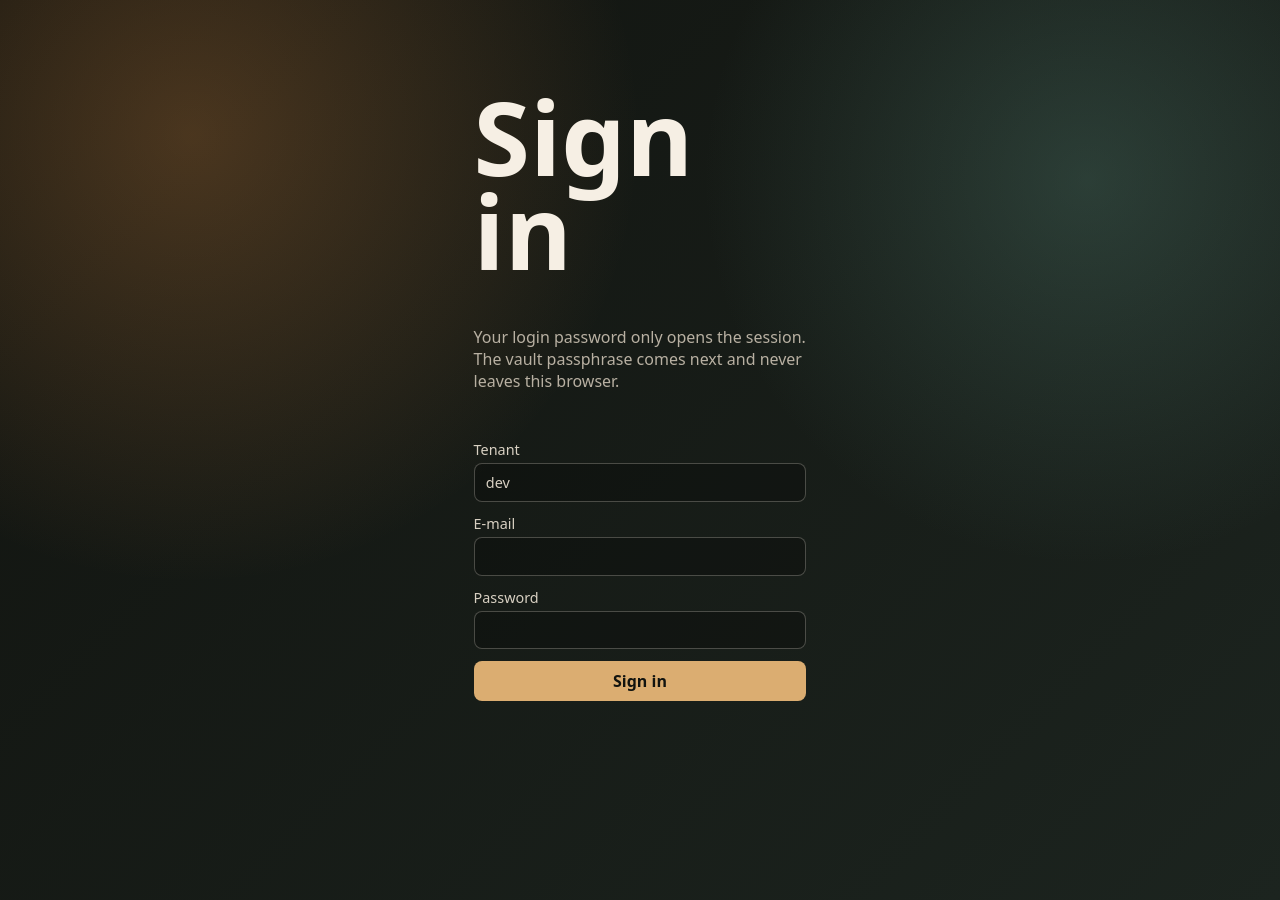
Test: LoginPage › shows the throttle message on 429
The width and height of the screenshot is (1280, 900).
Type "a@b.c" into the field labelled "E-mail".
click(640, 556); type("a@b.c")  # box [474,537,806,576]
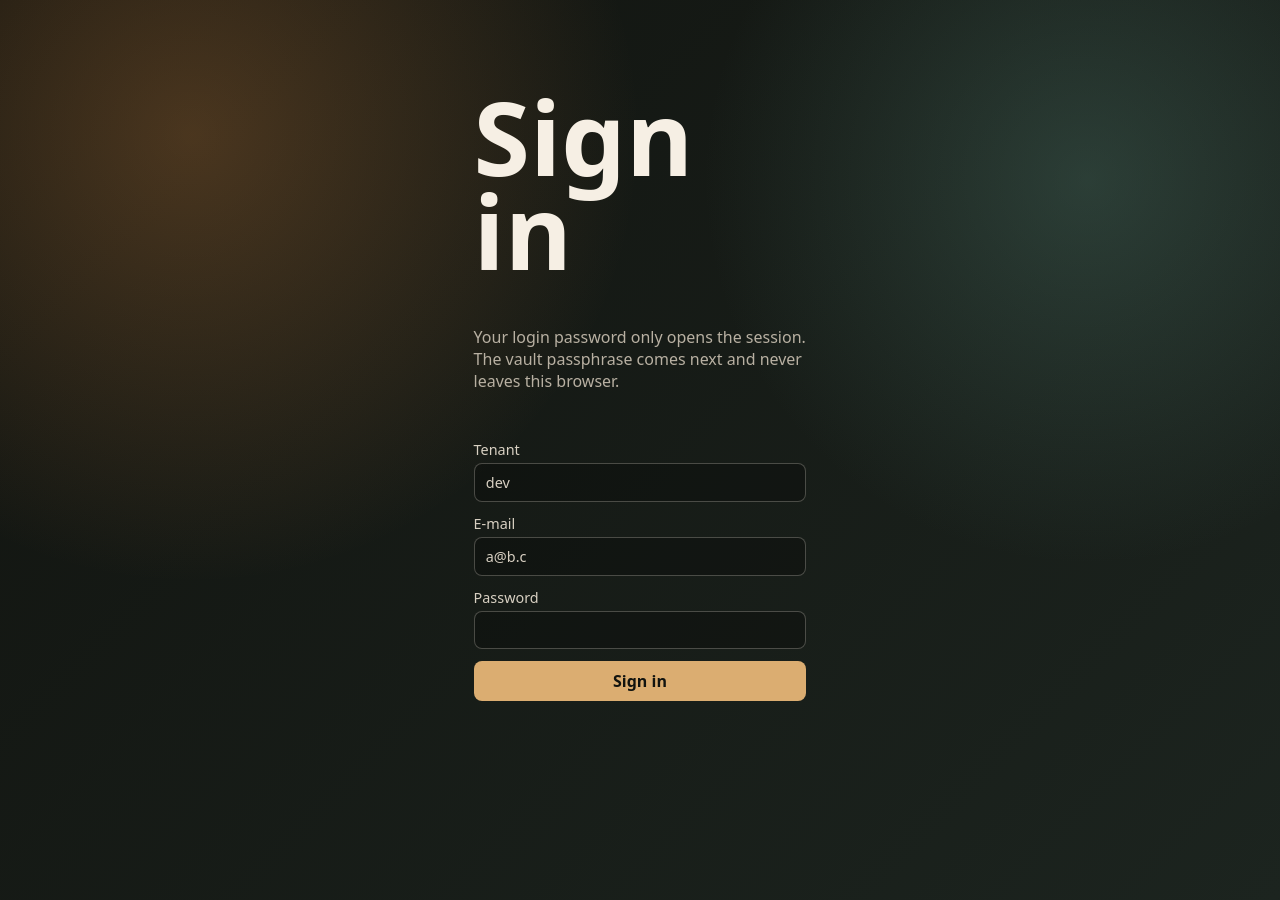
Type "x" into the password field labelled "Password".
click(640, 630); type("x")  # box [474,611,806,649]
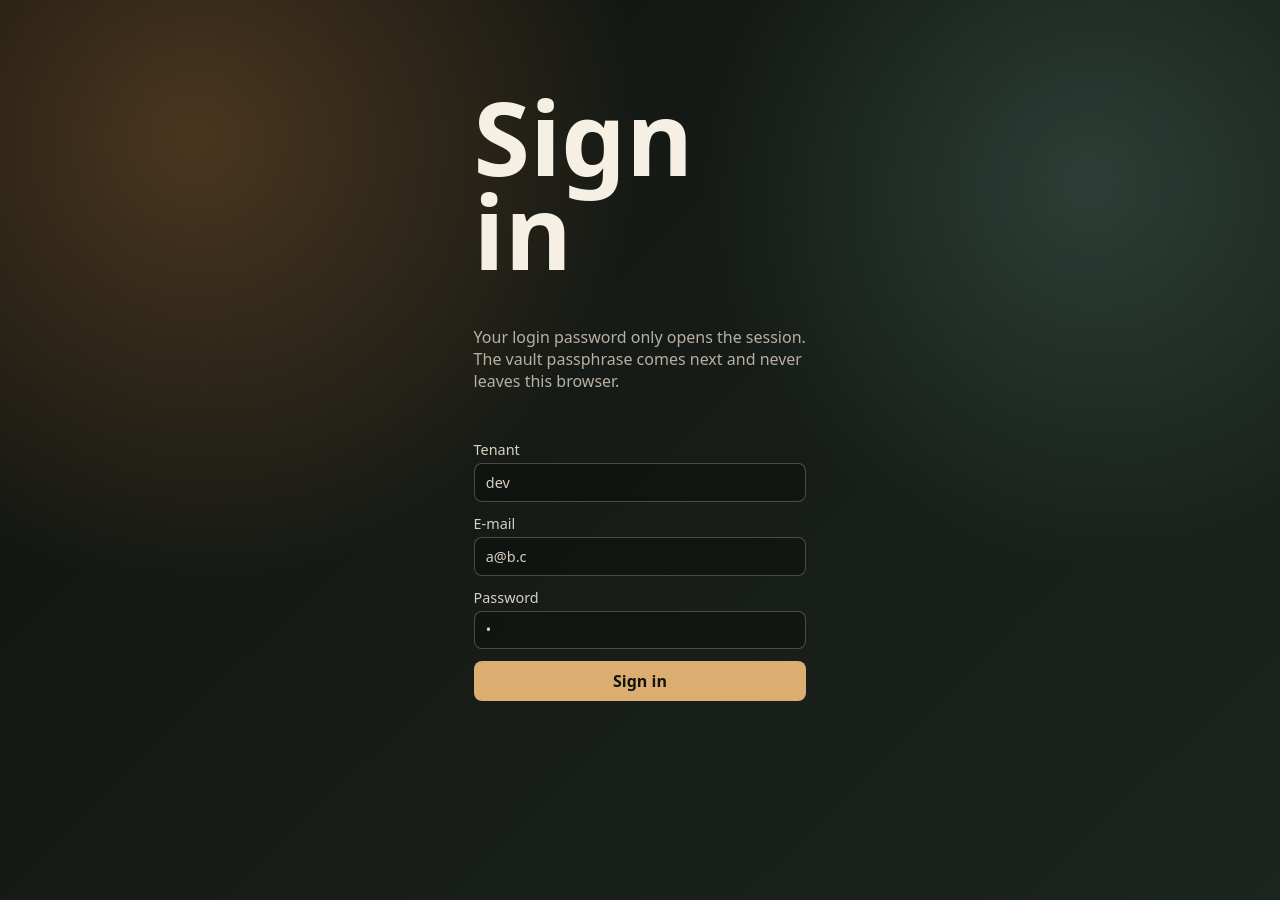
Click the button "Sign in".
click(640, 681)  # box [474,661,806,701]
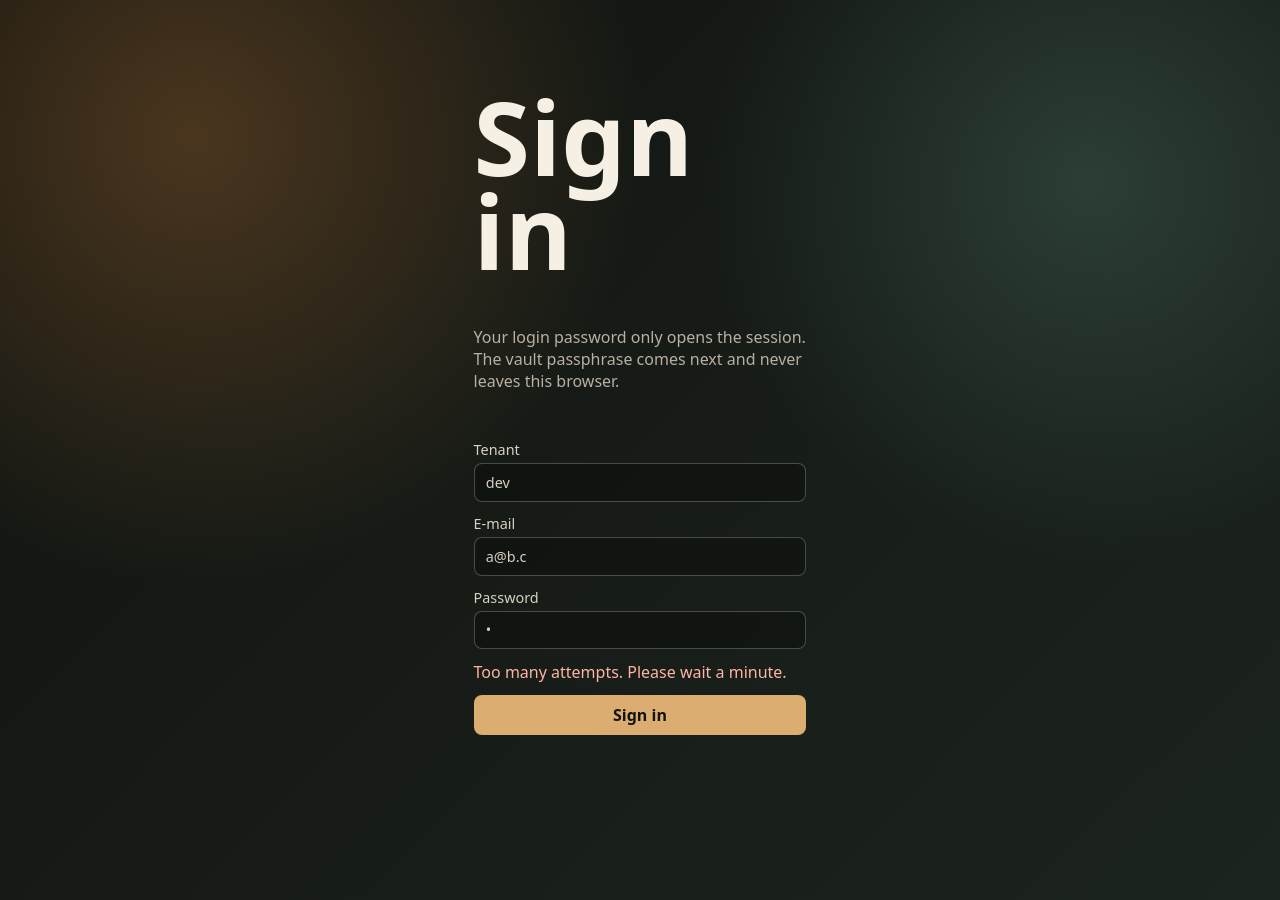
Check: the message shows "Too many attempts", box [474,661,787,683]
